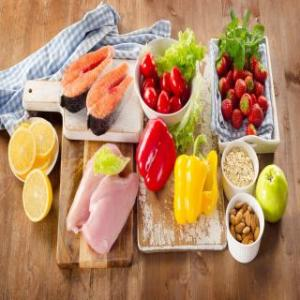bell_pepper: (172, 134, 212, 230), (136, 120, 175, 194)
tomato: (169, 65, 184, 95), (140, 50, 156, 74), (156, 92, 170, 114), (157, 71, 170, 93), (169, 97, 183, 113), (144, 90, 157, 106)
